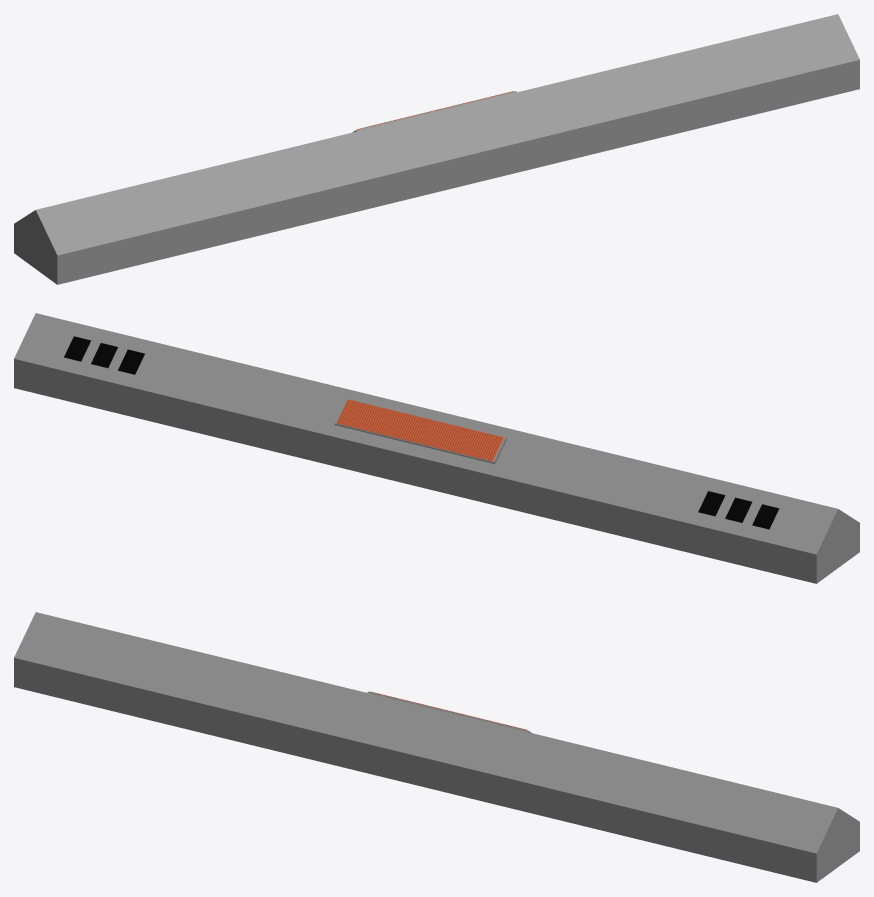
The model's file is kickplate_vent.fbx.
The picture shows the model from 3 angles, top to bottom: view 1: azimuth 30°, elevation 25°; view 2: azimuth 150°, elevation 25°; view 3: azimuth 330°, elevation 25°; orthographic projection.
Parts seen in each view (by area): view 1: vent_grate.005; view 2: vent_grate.005; view 3: vent_grate.005.
Boxes of the visible parts, <box> form: vent_grate.005: <box>14,14,859,284</box>; vent_grate.005: <box>14,313,859,583</box>; vent_grate.005: <box>14,612,859,882</box>.
Size of the model in its own units: 286 by 20.16 by 26.82.
